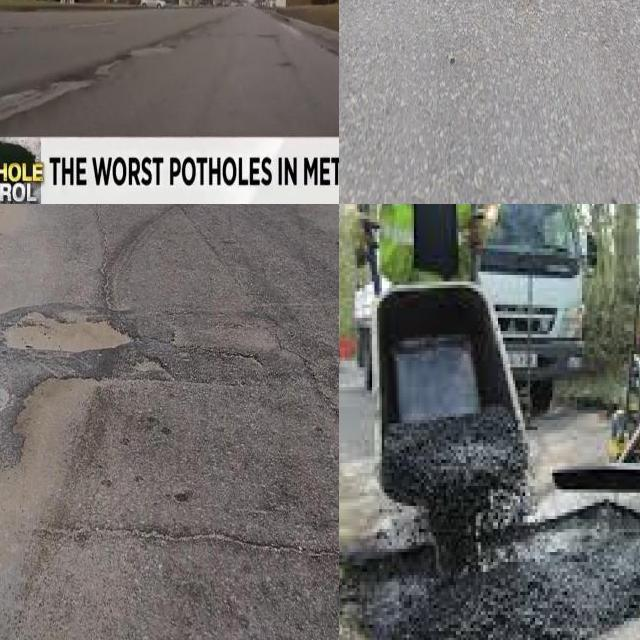Pothole: (350, 503, 640, 640), (1, 310, 129, 355), (0, 75, 93, 125), (130, 44, 173, 58), (94, 61, 122, 76), (276, 62, 290, 66)
